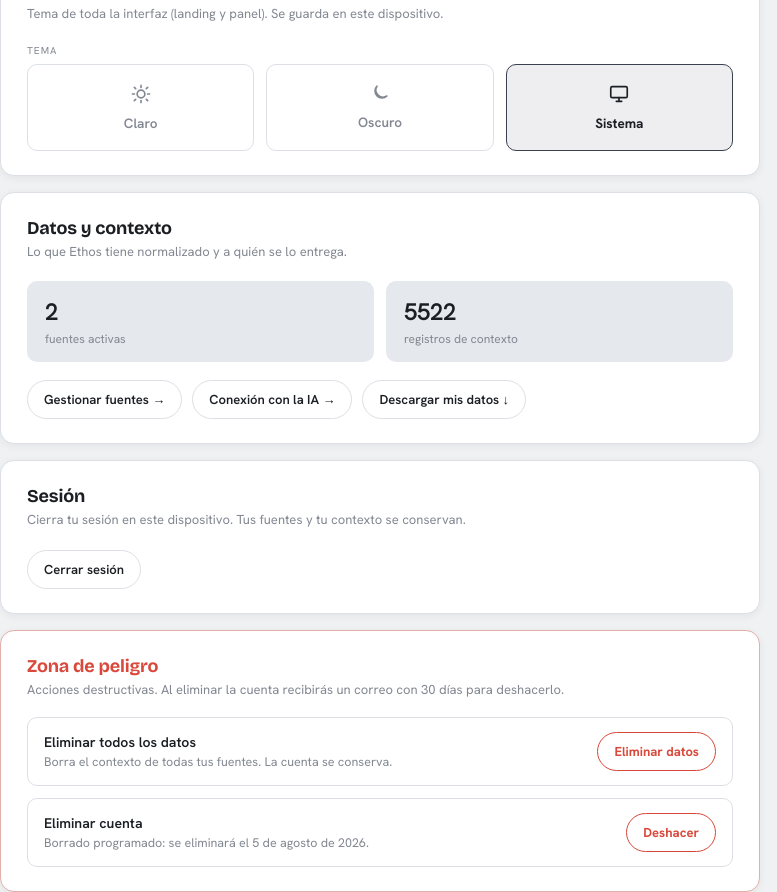
it: Settings › muestra el borrado ya programado al cargar y permite deshacerlo
The image size is (777, 892).
(page scrolled)
Expected: the text "Borrado programado" is shown, [44,834,369,851]
Click the button "Deshacer" at coordinates (671, 832), box [626,813,716,852]
(page scrolled)
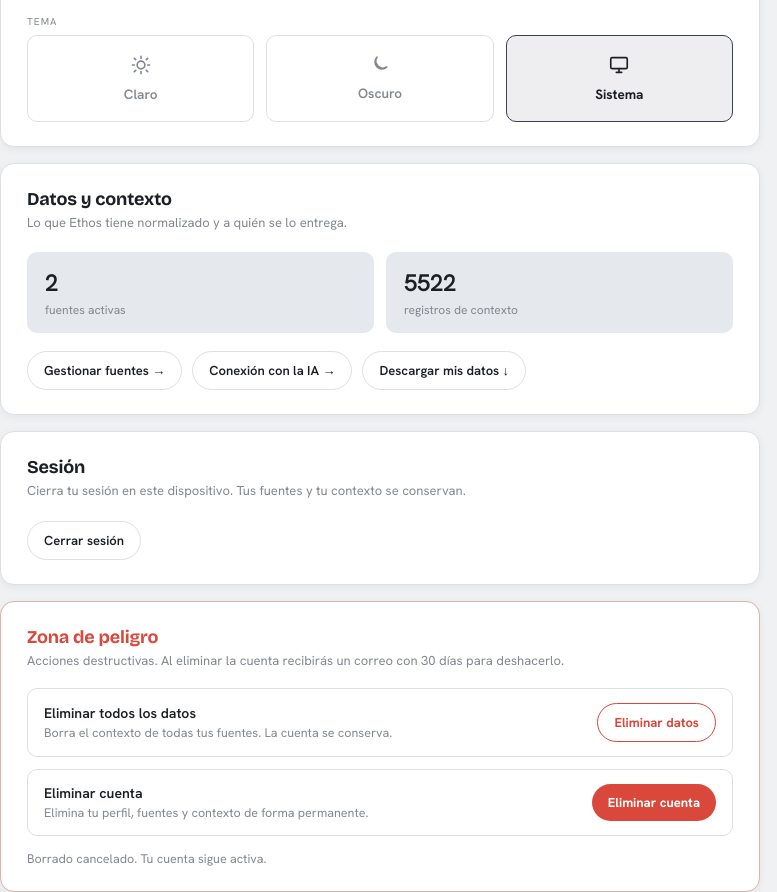
Expected: the text "Borrado cancelado. Tu cuenta sigue activa." is shown, [27,850,266,867]
